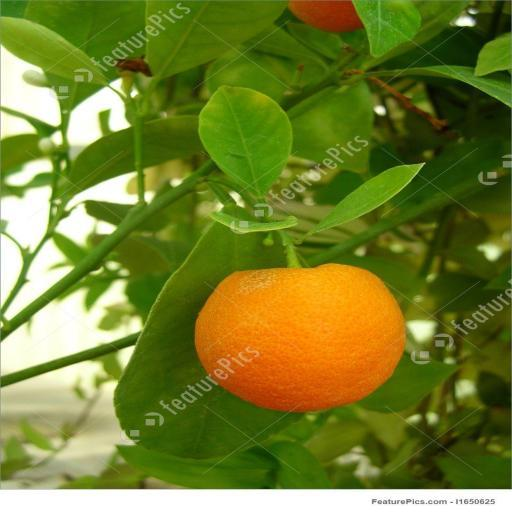orange: (195, 264, 405, 411)
